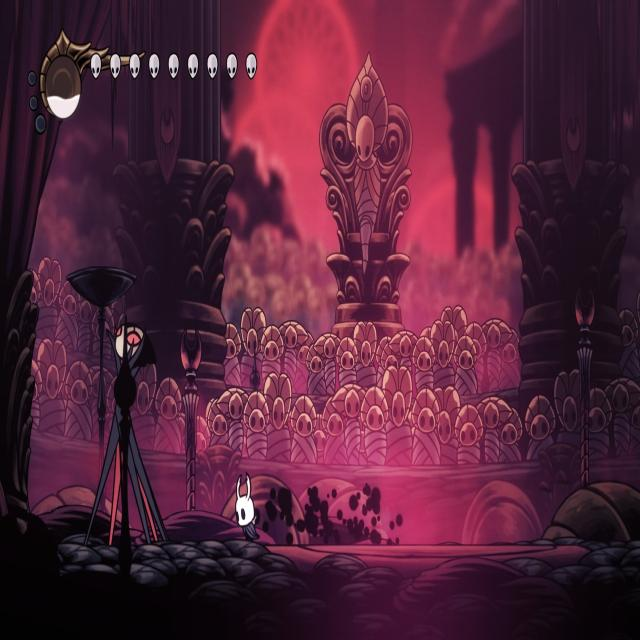Grimm: (84, 307, 172, 543)
Player: (235, 467, 261, 545)
